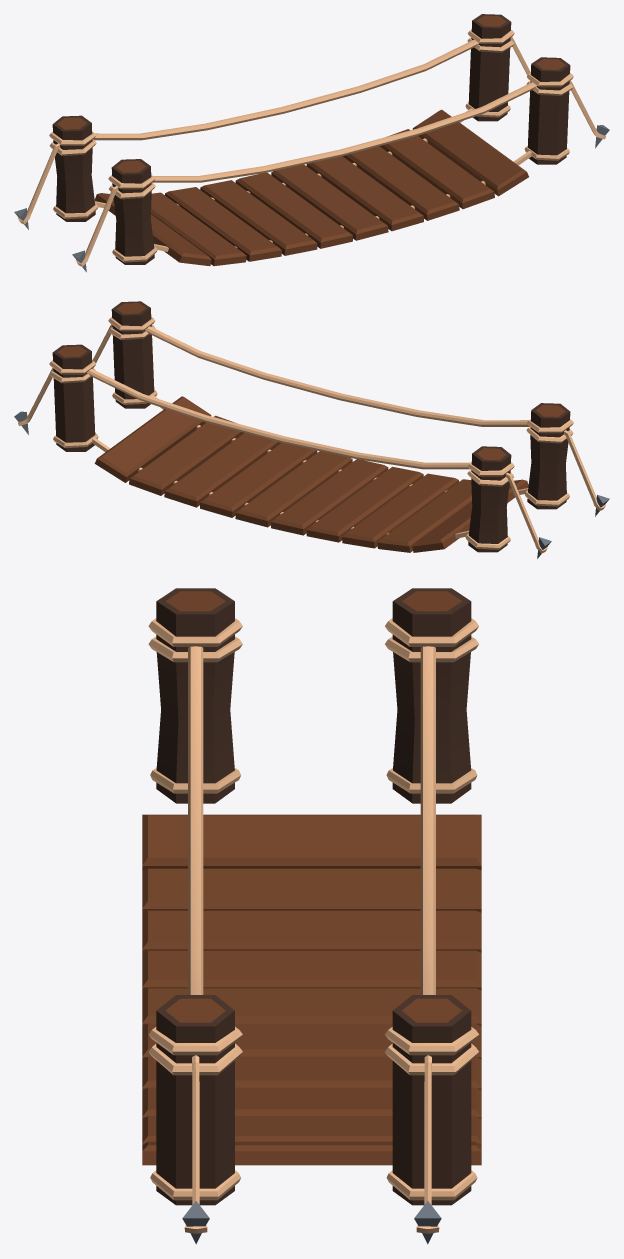
The model's file is bridge.fbx.
3 views of the same model, one above another, from view 1: azimuth 30°, elevation 25°; view 2: azimuth 150°, elevation 25°; view 3: azimuth 270°, elevation 25° (orthographic). The views are drawn at different scales.
Visible parts, largest first — view 1: bridge; view 2: bridge; view 3: bridge.
Part boxes in pixels (x1,y1,x2,y2): bridge: [14, 14, 609, 272]; bridge: [14, 301, 609, 558]; bridge: [142, 588, 481, 1244].
Size of the model in its own units: 435 by 91.19 by 120.
